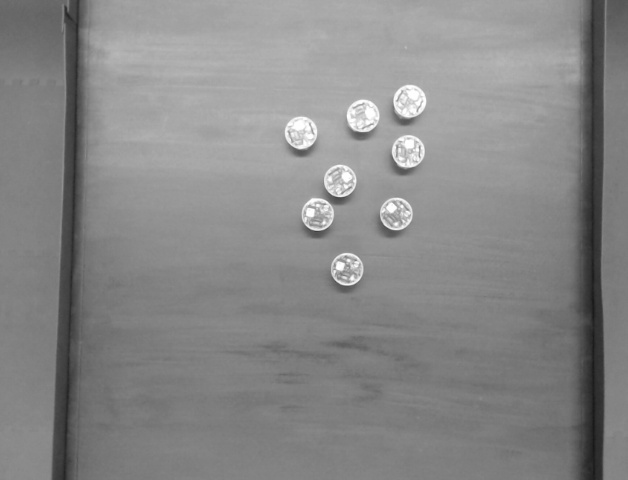epuck_2: (390, 81, 432, 124), (342, 95, 384, 136), (377, 197, 416, 236), (329, 248, 366, 288), (283, 115, 321, 152), (391, 133, 427, 172), (300, 197, 336, 232), (323, 164, 356, 198)
